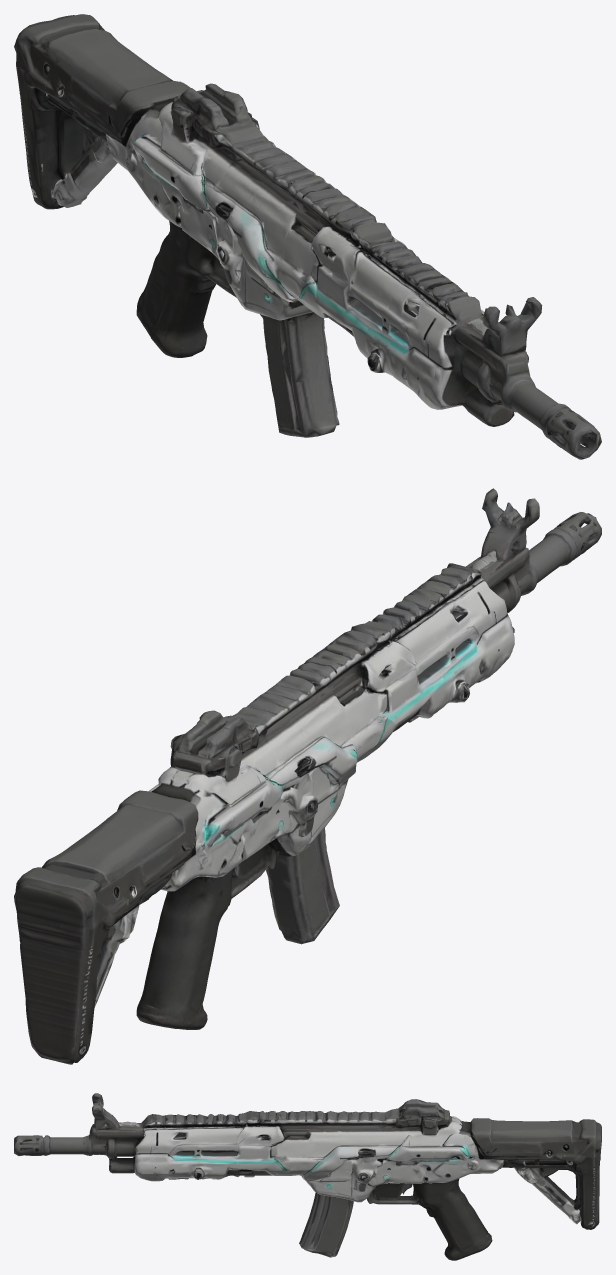
The model's file is enforcer_rifle.glb.
The picture shows the model from 3 angles, top to bottom: view 1: azimuth 30°, elevation 25°; view 2: azimuth 150°, elevation 25°; view 3: azimuth 270°, elevation 25°; orthographic projection. The views are drawn at different scales.
Parts seen in each view (by area): view 1: tripo_node_fced941e-527d-4219-9ba5-19a5813bad46; view 2: tripo_node_fced941e-527d-4219-9ba5-19a5813bad46; view 3: tripo_node_fced941e-527d-4219-9ba5-19a5813bad46.
Part boxes in pixels (x1,y1,x2,y2): tripo_node_fced941e-527d-4219-9ba5-19a5813bad46: (14, 14, 601, 459); tripo_node_fced941e-527d-4219-9ba5-19a5813bad46: (14, 488, 601, 1064); tripo_node_fced941e-527d-4219-9ba5-19a5813bad46: (14, 1093, 601, 1260).
Size of the model in its own units: 0.104 by 0.2971 by 1.
1 material, 1 textured.
